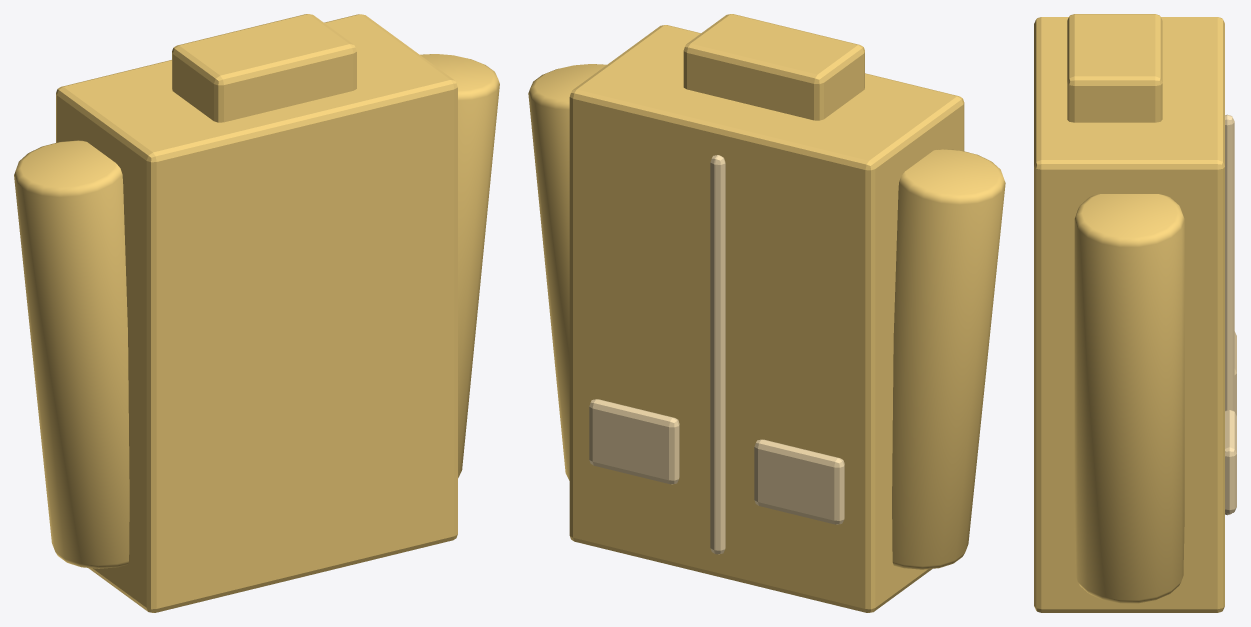
Rendered from VM-NIN-005.glb.
3 renders of one model, left to right at view 1: azimuth 30°, elevation 25°; view 2: azimuth 150°, elevation 25°; view 3: azimuth 270°, elevation 25°, orthographic.
Visible parts, largest first — view 1: Chaqueta Denim Kids; view 2: Chaqueta Denim Kids; view 3: Chaqueta Denim Kids.
Part boxes in pixels (box(x1,y1,x2,y2)): Chaqueta Denim Kids: box(14, 14, 499, 612); Chaqueta Denim Kids: box(528, 14, 1005, 612); Chaqueta Denim Kids: box(1034, 14, 1236, 612).
Size of the model in its own units: 0.4678 by 0.4804 by 0.178.
